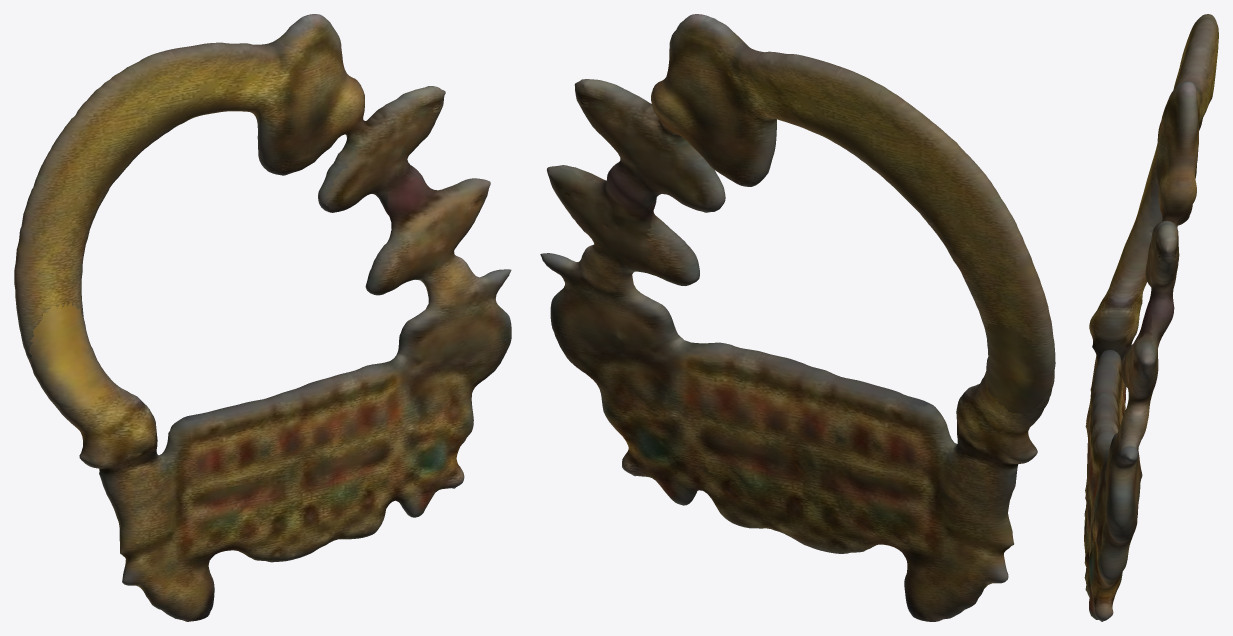
File: kfl-2282.glb
The picture shows the model from 3 angles, left to right: view 1: azimuth 30°, elevation 25°; view 2: azimuth 150°, elevation 25°; view 3: azimuth 270°, elevation 25°; orthographic projection. The views are drawn at different scales.
Visible parts, largest first — view 1: geometry_0; view 2: geometry_0; view 3: geometry_0.
Boxes of the visible parts, x1,y1,x2,y2 form: geometry_0: (14,14,511,621); geometry_0: (540,14,1055,621); geometry_0: (1084,14,1218,621).
Size of the model in its own units: 0.9174 by 0.9872 by 0.2173.
Materials: 1 (1 with a texture image).
